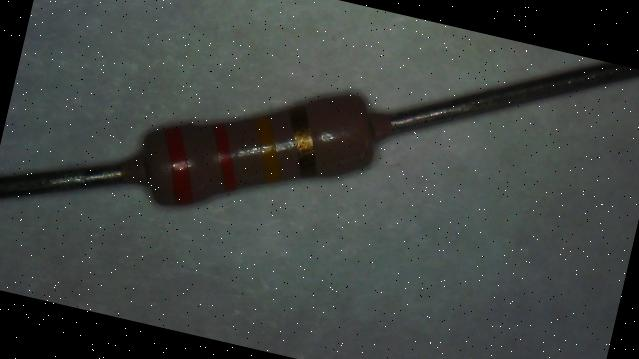gold: (278, 104, 328, 178)
orange: (150, 124, 206, 207), (201, 123, 249, 192)
resistor: (104, 66, 398, 225)
yellow: (242, 113, 294, 185)
